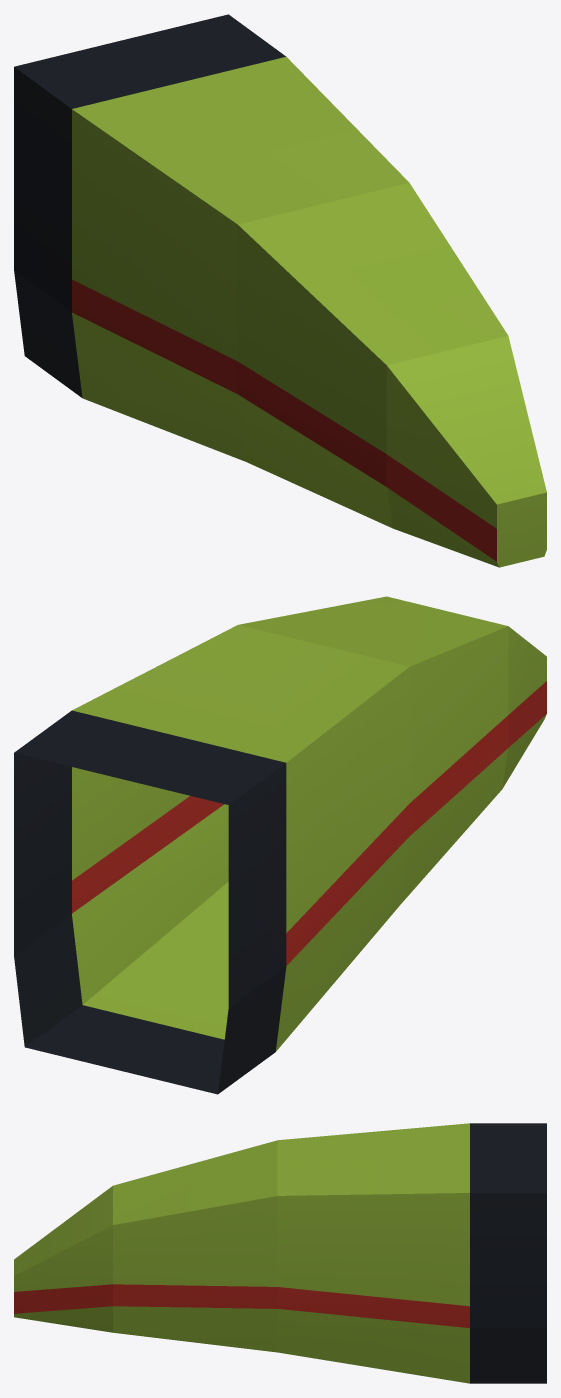
Rendered from custom-bico-tucano.glb.
3 views of the same model, one above another, from view 1: azimuth 30°, elevation 25°; view 2: azimuth 150°, elevation 25°; view 3: azimuth 270°, elevation 25° (orthographic). The views are drawn at different scales.
Visible parts, largest first — view 1: bico-tucano; view 2: bico-tucano; view 3: bico-tucano.
Part boxes in pixels (left/top/right/bottom): bico-tucano: left=14, top=14, right=546, bottom=567; bico-tucano: left=14, top=596, right=546, bottom=1094; bico-tucano: left=14, top=1123, right=546, bottom=1383.
Size of the model in its own units: 0.3 by 0.39 by 0.97.
